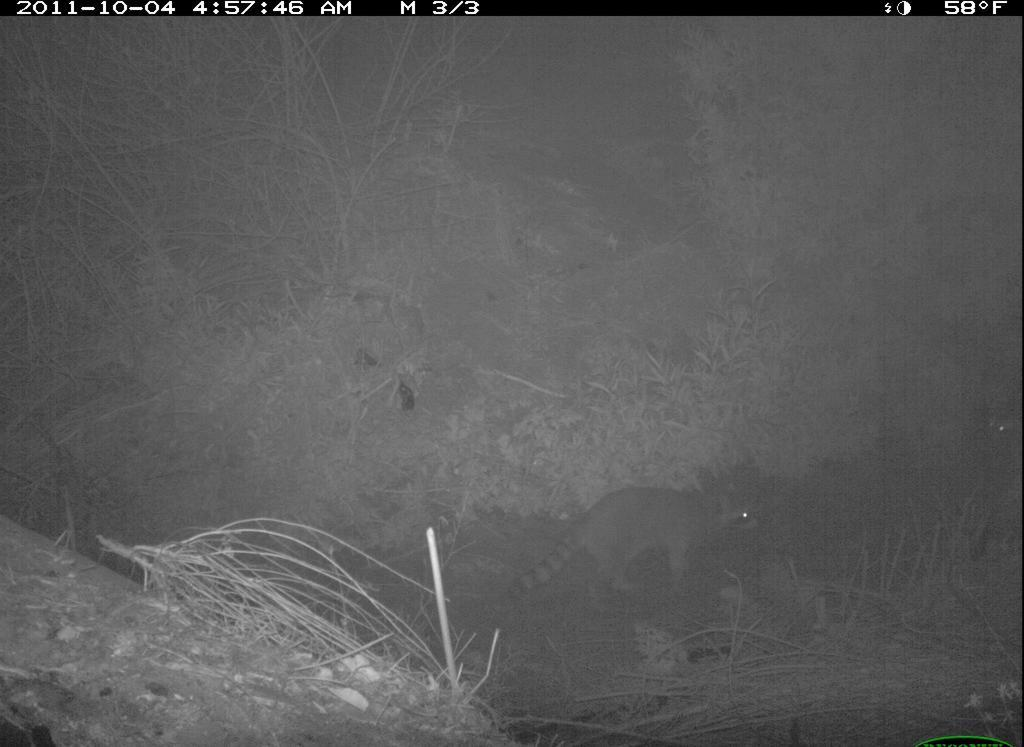raccoon: (502, 479, 770, 612)
